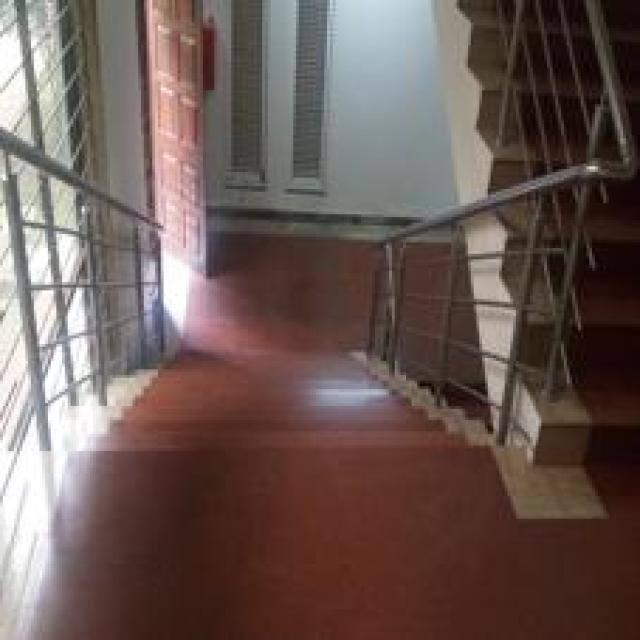stair: (43, 338, 480, 502)
